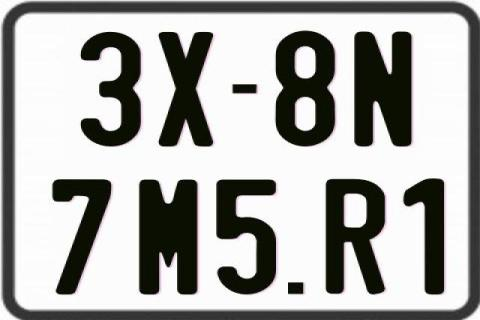0: (214, 179, 276, 295), (272, 30, 332, 148), (51, 177, 112, 293), (80, 31, 142, 145), (402, 177, 443, 297)
M: (136, 178, 195, 296)
N: (353, 29, 415, 147)
R: (324, 177, 384, 293)
X: (158, 31, 218, 147)
